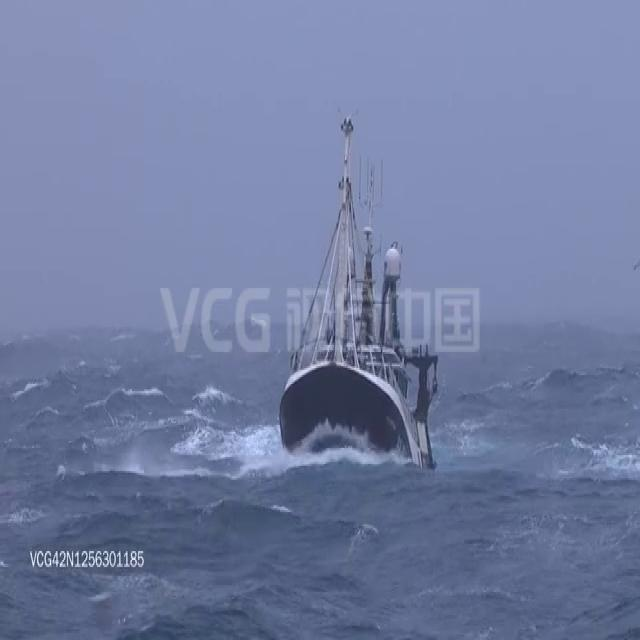houseboat: (275, 162, 436, 472)
